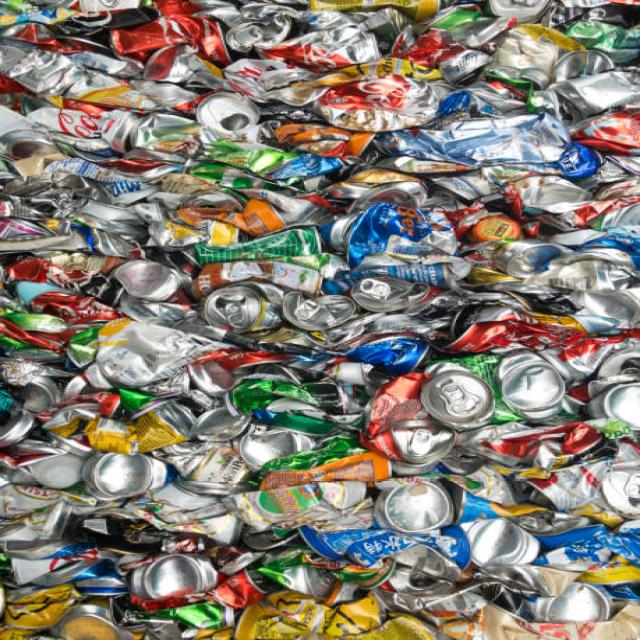metal: (31, 28, 596, 615)
